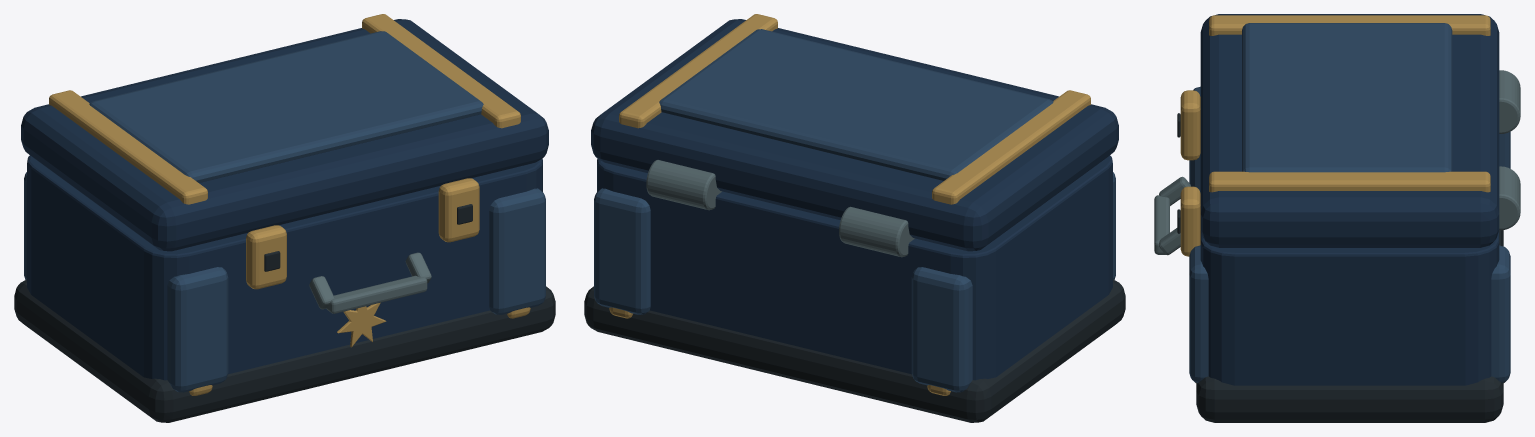
Rendered from FERNSTONE_WEAPON_CASE.hi.glb.
The picture shows the model from 3 angles, left to right: view 1: azimuth 30°, elevation 25°; view 2: azimuth 150°, elevation 25°; view 3: azimuth 270°, elevation 25°; orthographic projection. The views are drawn at different scales.
Parts seen in each view (by area): view 1: Body_Mesh, LidPivot_Mesh; view 2: Body_Mesh, LidPivot_Mesh; view 3: LidPivot_Mesh, Body_Mesh.
Boxes of the visible parts, x1=… form: Body_Mesh: x1=14, y1=155, x2=555, y2=422; LidPivot_Mesh: x1=21, y1=14, x2=548, y2=251; Body_Mesh: x1=584, y1=155, x2=1125, y2=422; LidPivot_Mesh: x1=591, y1=14, x2=1118, y2=251; LidPivot_Mesh: x1=1200, y1=14, x2=1499, y2=247; Body_Mesh: x1=1154, y1=70, x2=1520, y2=422.
Size of the model in its own units: 1.68 by 0.9025 by 1.29.
